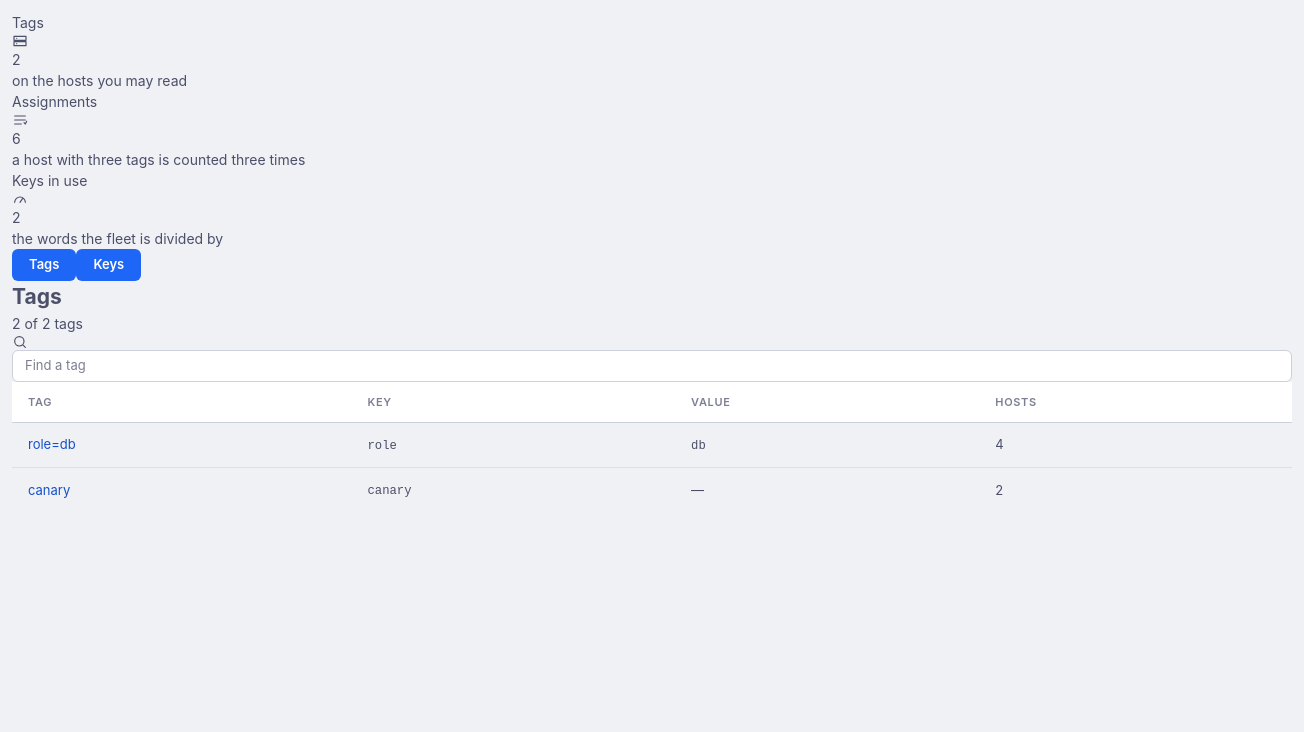
Test: the catalogue › says how many of how many it is drawing when the search narrows it
This screenshot has width=1304, height=732.
Expected: the row with test id "tag-canary" is shown, [12, 468, 1292, 513]
In the field with test id "tag-search": coordinates (652, 366) [12, 350, 1292, 382], type "role"
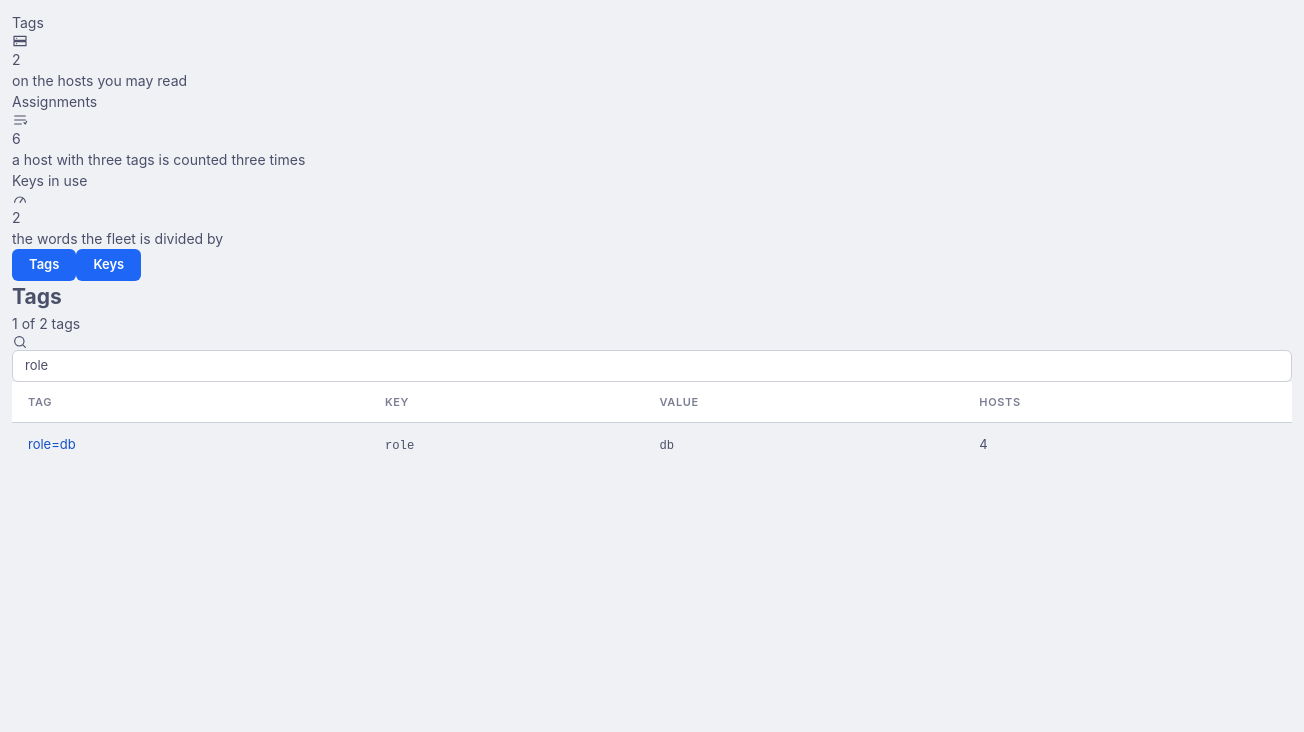
Now the row with test id "tag-canary" is gone
Now the text with class "fl-card-note" reads "1 of 2 tags", box [12, 314, 80, 332]
